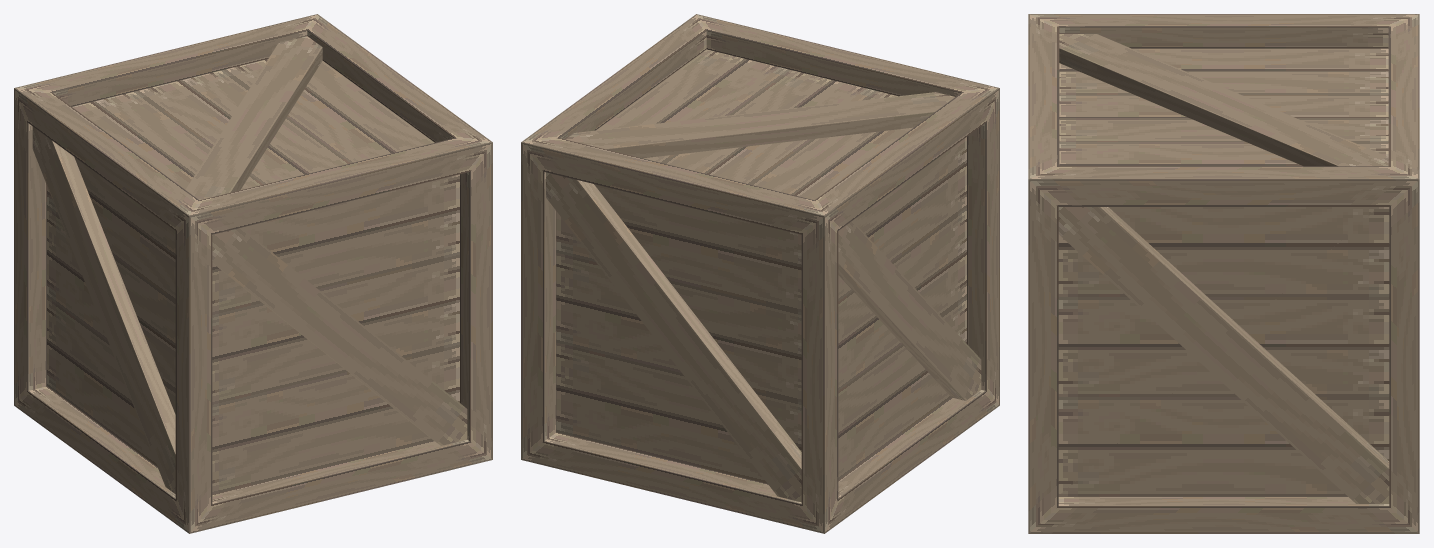
Rendered from woodBox.fbx.
3 views of the same model, side by side, from view 1: azimuth 30°, elevation 25°; view 2: azimuth 150°, elevation 25°; view 3: azimuth 270°, elevation 25° (orthographic). The views are drawn at different scales.
Visible parts, largest first — view 1: crate_small; view 2: crate_small; view 3: crate_small.
Part boxes in pixels (box(x1,y1,x2,y2)): crate_small: box(14, 14, 492, 533); crate_small: box(521, 14, 999, 533); crate_small: box(1028, 14, 1419, 533).
Bounding box in the file's own units: 15000 × 15000 × 15000.
